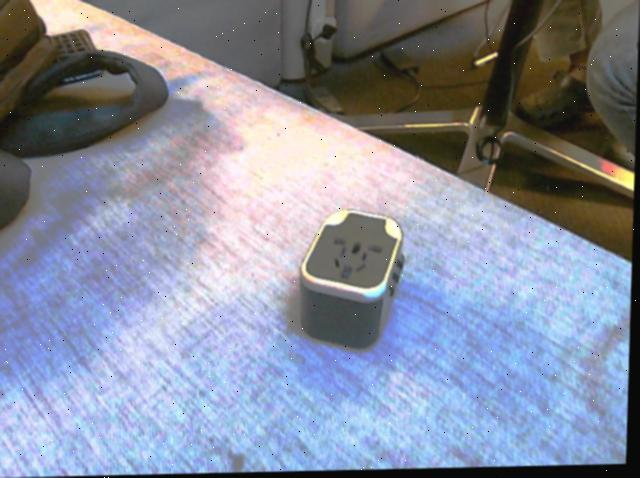adapter: (298, 209, 407, 351)
